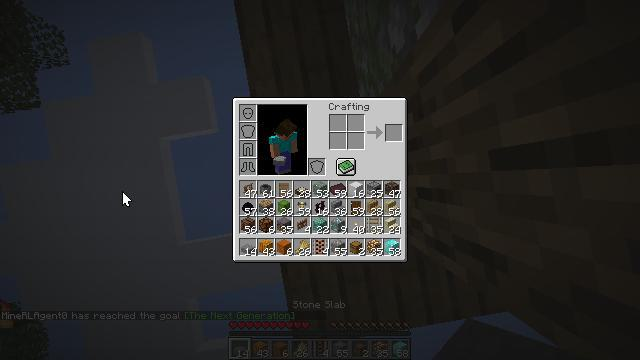cursor: (122, 191, 132, 207)
